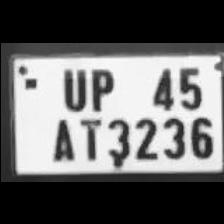2: (130, 113, 158, 162)
3: (102, 113, 131, 163), (158, 111, 186, 160)
4: (146, 63, 174, 109)
5: (174, 62, 204, 108)
6: (186, 110, 216, 158)
A: (46, 112, 76, 160)
P: (84, 63, 116, 109)
T: (75, 114, 103, 160)
U: (55, 63, 87, 109)
